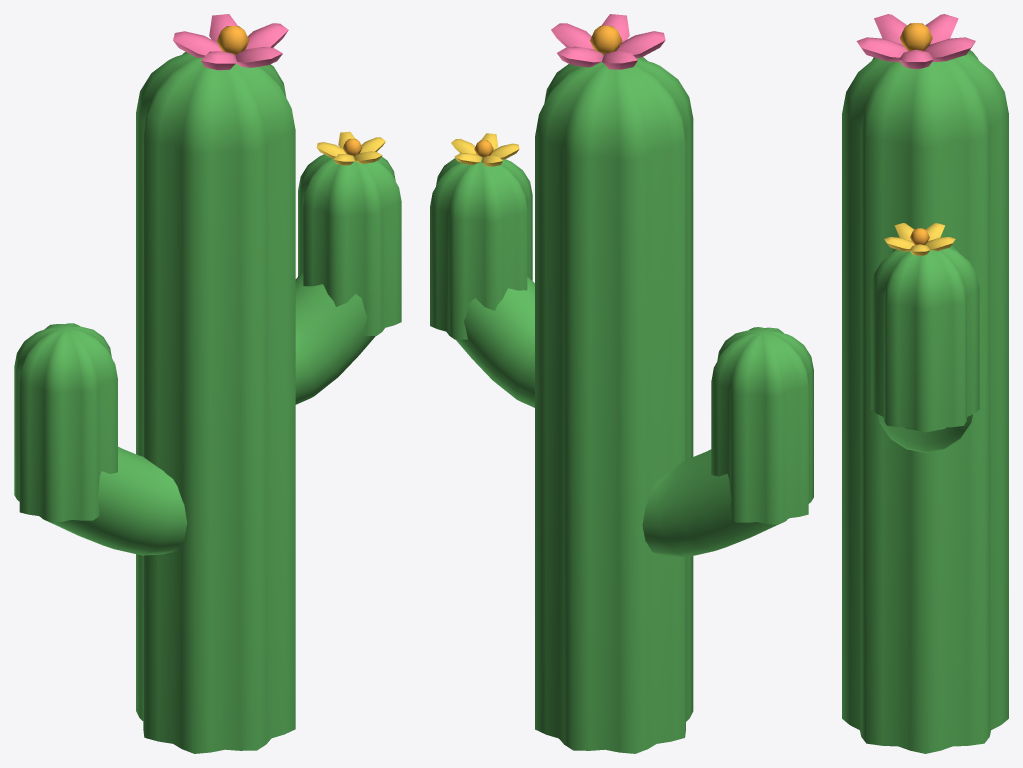
Rendered from cactus_tall.glb.
3 views of the same model, side by side, from view 1: azimuth 30°, elevation 25°; view 2: azimuth 150°, elevation 25°; view 3: azimuth 270°, elevation 25° (orthographic).
Parts seen in each view (by area): view 1: cactus_tall; view 2: cactus_tall; view 3: cactus_tall.
Boxes of the visible parts, x1,y1,x2,y2 form: cactus_tall: [14, 14, 401, 753]; cactus_tall: [430, 14, 813, 753]; cactus_tall: [842, 14, 1008, 753].
Size of the model in its own units: 2.39 by 4.21 by 0.9072.
